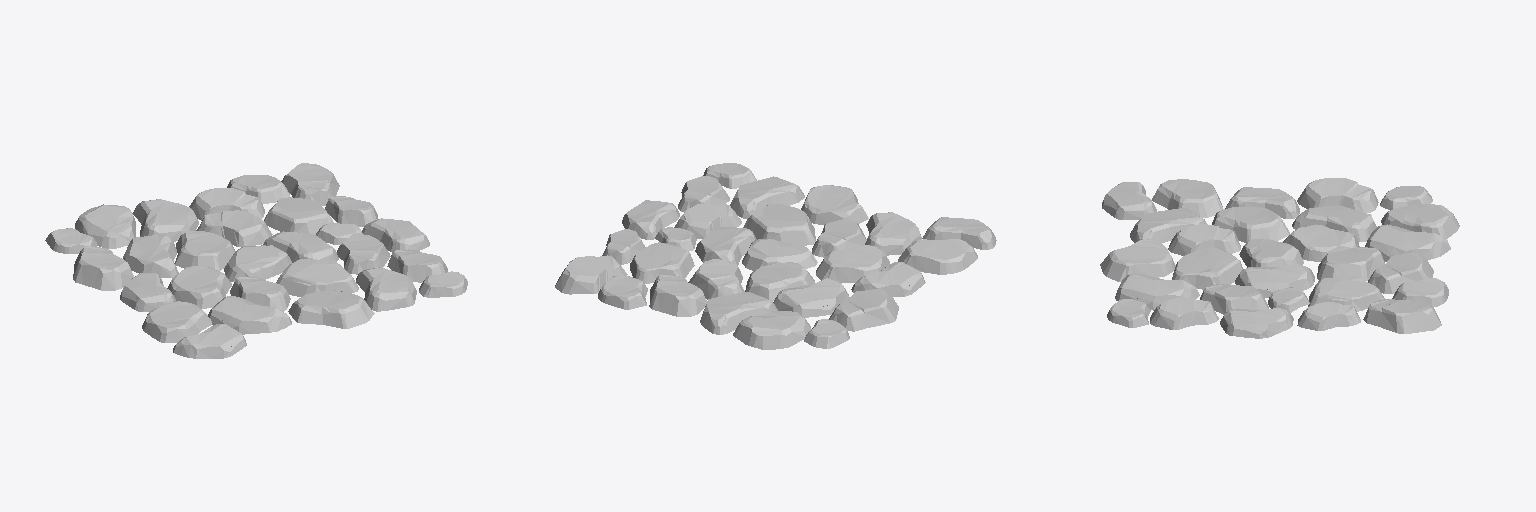
File: RockPath_Round_Wide.obj
3 views of the same model, side by side, from view 1: azimuth 30°, elevation 25°; view 2: azimuth 150°, elevation 25°; view 3: azimuth 270°, elevation 25° (orthographic).
Parts seen in each view (by area): view 1: RockPath_Round_Wide; view 2: RockPath_Round_Wide; view 3: RockPath_Round_Wide.
Boxes of the visible parts, x1,y1,x2,y2 form: RockPath_Round_Wide: [45, 163, 467, 358]; RockPath_Round_Wide: [555, 163, 996, 349]; RockPath_Round_Wide: [1100, 178, 1459, 338].
Bounding box in the file's own units: 2.11 × 0.1128 × 2.13.